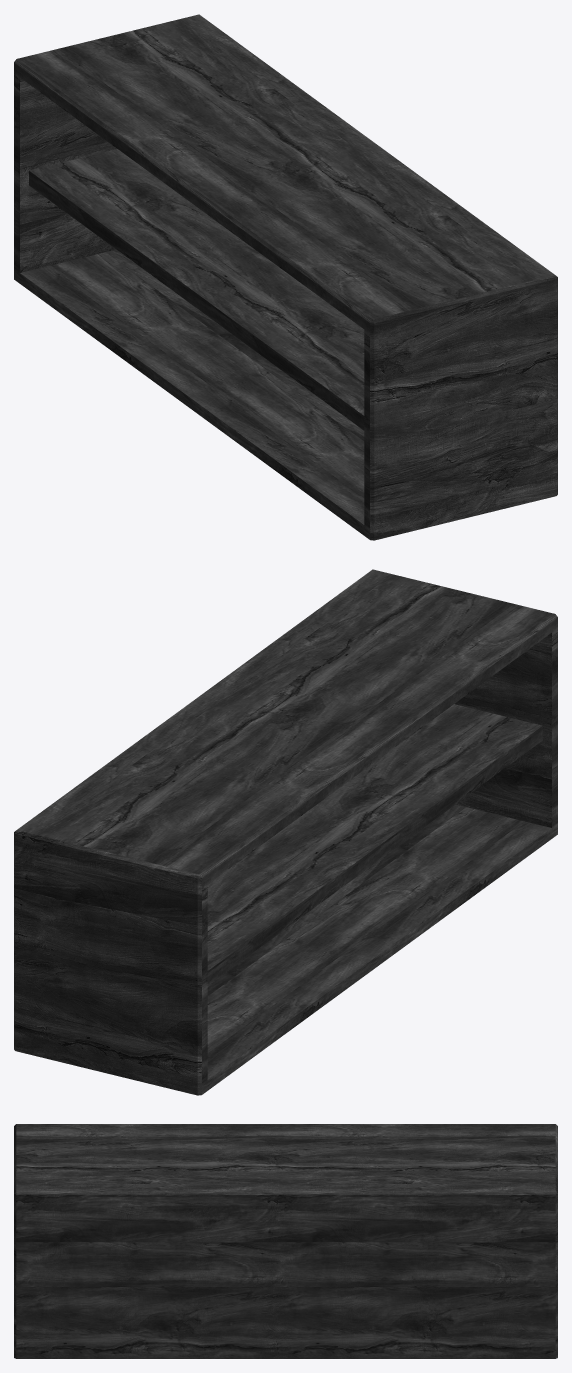
Rendered from tv_stand.fbx.
The picture shows the model from 3 angles, top to bottom: view 1: azimuth 30°, elevation 25°; view 2: azimuth 150°, elevation 25°; view 3: azimuth 270°, elevation 25°; orthographic projection. The views are drawn at different scales.
Parts seen in each view (by area): view 1: tv_stand; view 2: tv_stand; view 3: tv_stand.
Boxes of the visible parts, x1,y1,x2,y2 form: tv_stand: [14, 14, 557, 540]; tv_stand: [14, 569, 557, 1095]; tv_stand: [14, 1124, 557, 1358].
Size of the model in its own units: 0.954 by 1.07 by 3.16.
